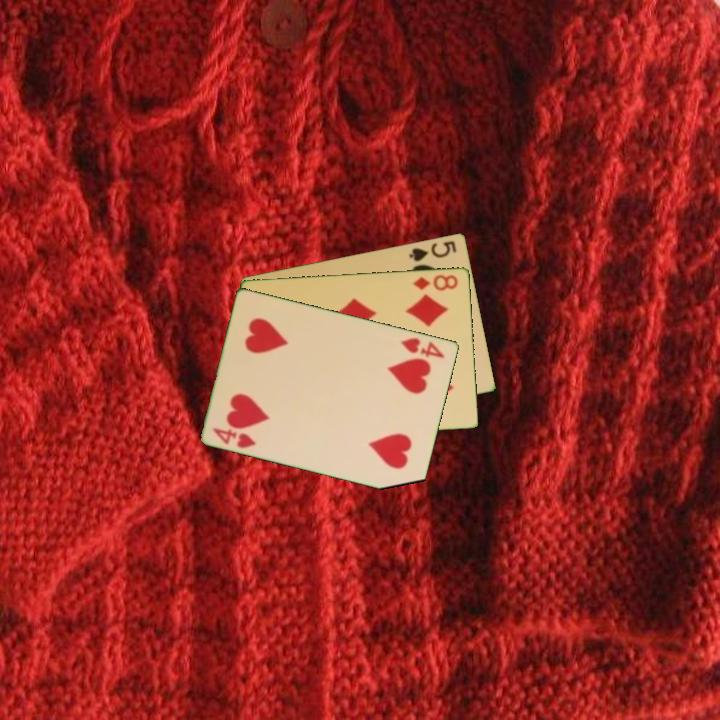4h: (398, 334, 448, 361), (209, 424, 259, 451)
5s: (406, 237, 460, 264)
8d: (409, 271, 461, 293)
